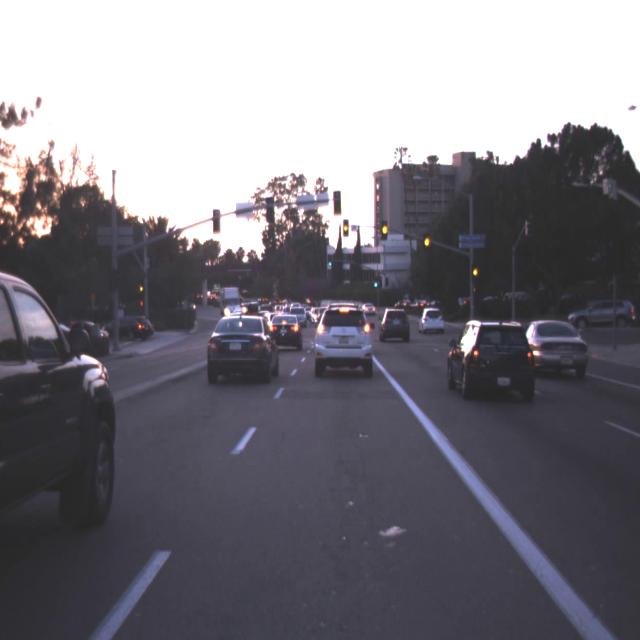sari: (342, 219, 348, 237), (382, 222, 388, 240)
